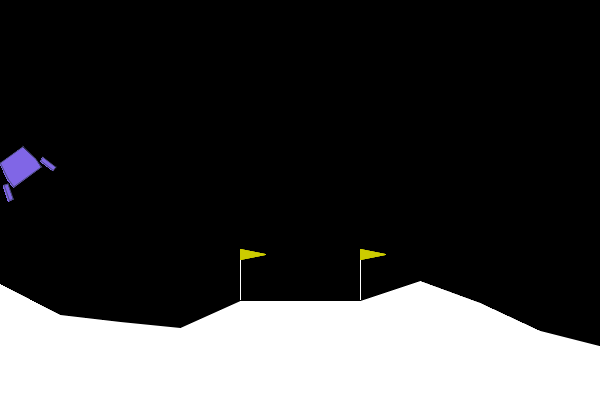lander: (0, 136, 58, 204)
